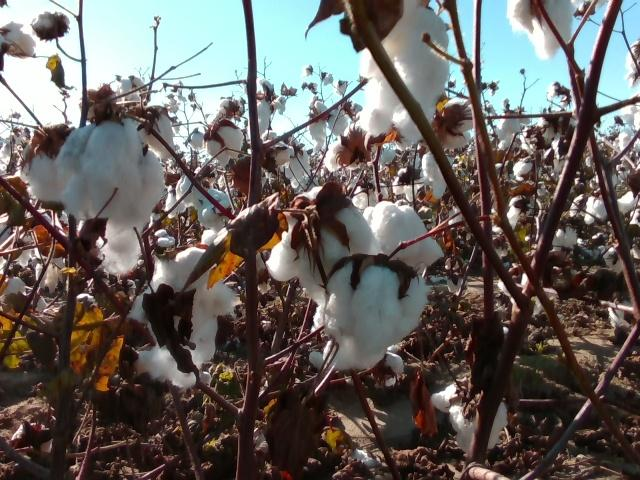cotton_ready: (130, 249, 239, 385), (310, 260, 427, 369), (268, 189, 380, 302), (358, 2, 450, 139), (61, 118, 164, 218), (429, 380, 507, 458), (421, 98, 479, 197), (361, 204, 444, 267), (506, 0, 575, 59), (20, 145, 74, 202), (98, 215, 147, 276), (324, 121, 364, 172), (136, 112, 176, 155), (204, 122, 244, 164), (390, 103, 421, 148), (0, 21, 35, 59)
